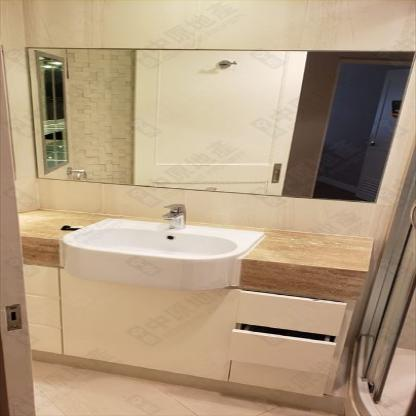Faucet: (153, 199, 195, 232)
Toilet Sink: (61, 217, 267, 291)
